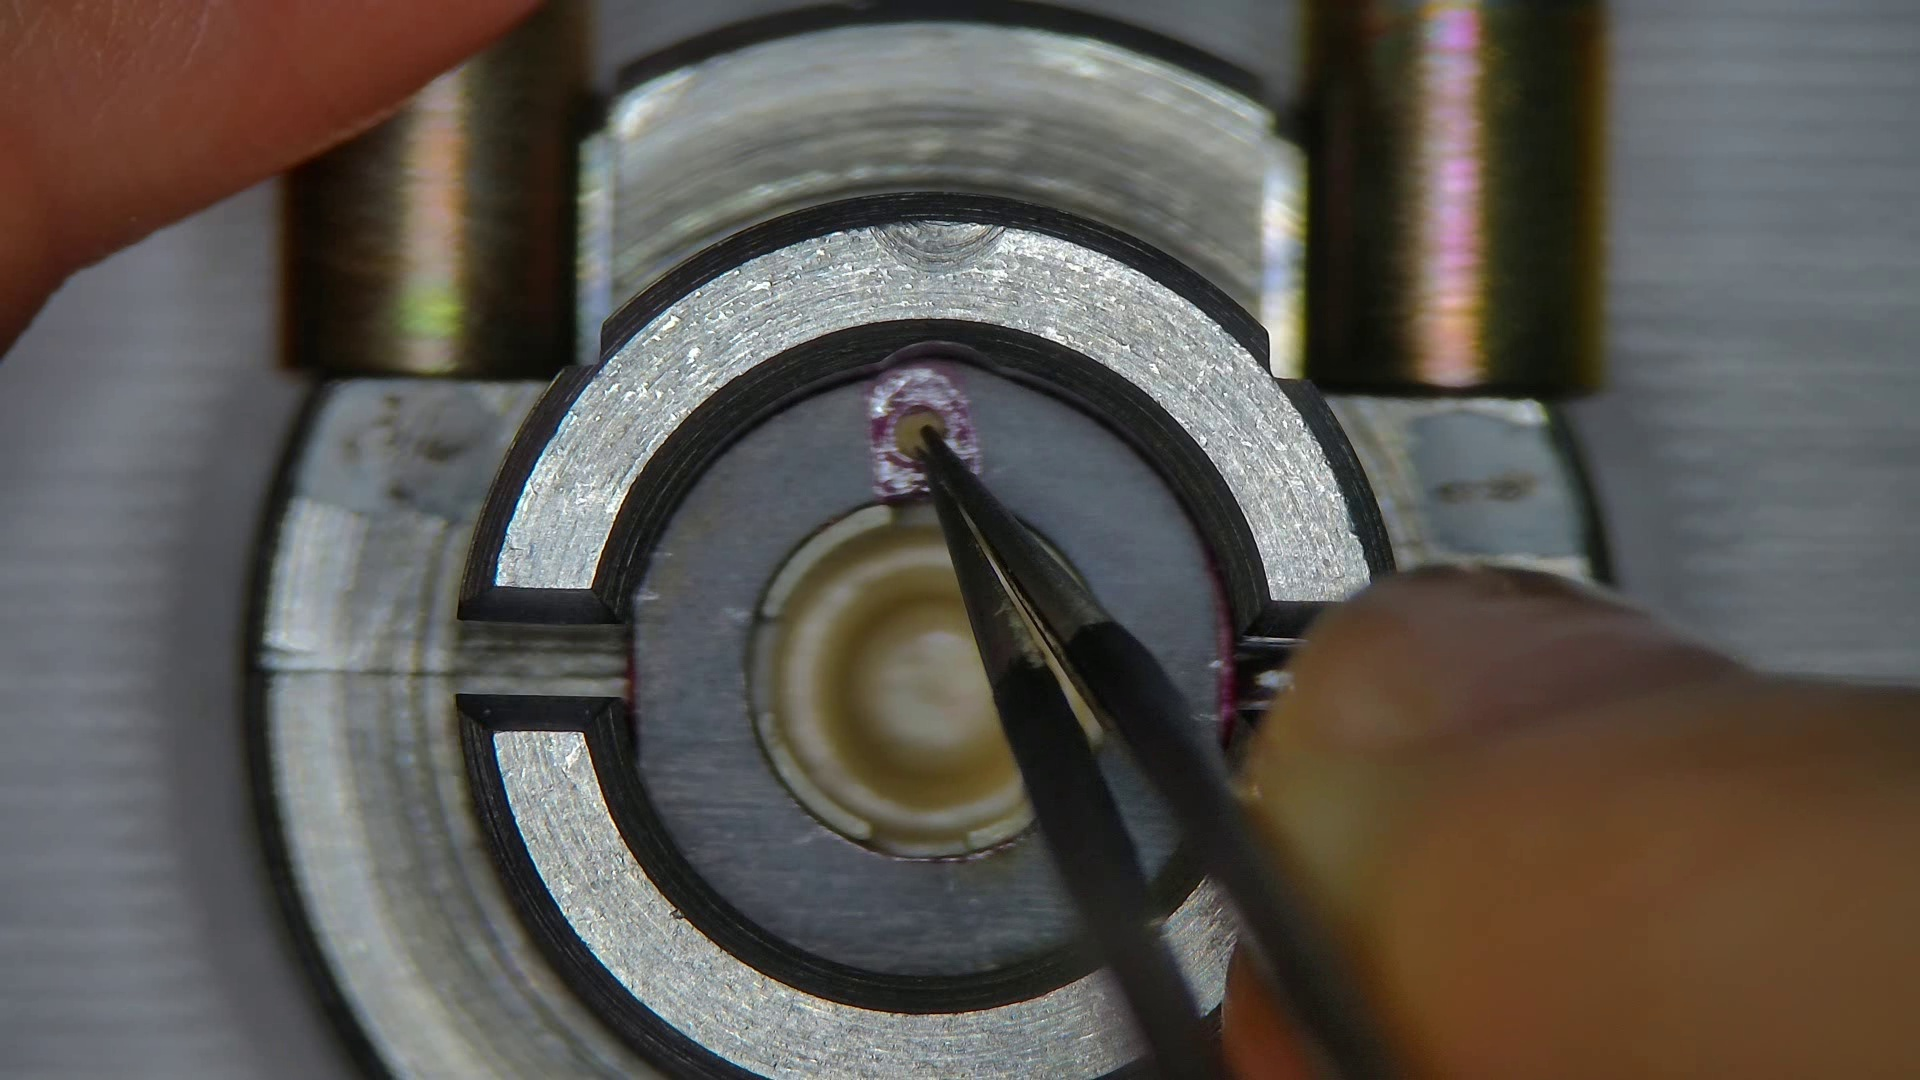YellowOring: (632, 360, 1221, 976), (1098, 746, 1175, 862)
